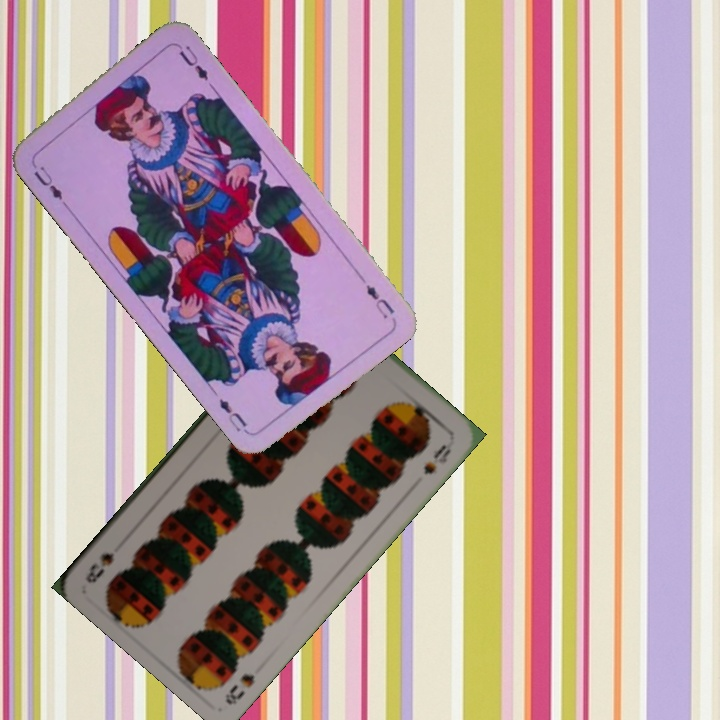EU: (354, 270, 397, 322), (29, 161, 70, 209)
S8: (221, 669, 258, 708)
